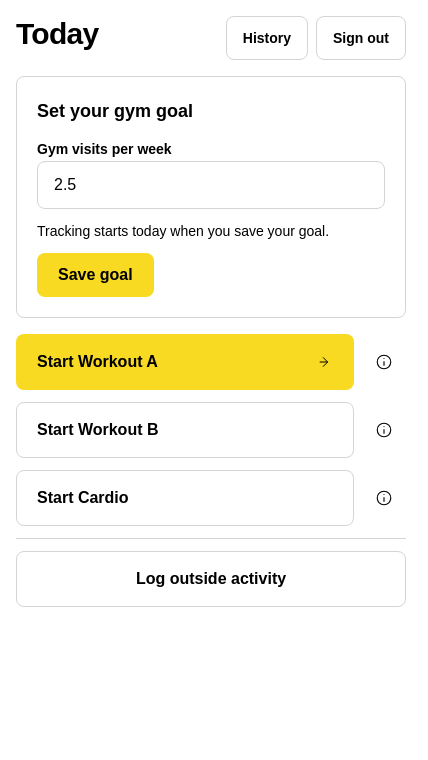
Scenario: Today workout actions › previews each workout without starting it and toggles details closed
Step 1. Click the button named "View Workout B details" → (384, 430), box top-left (362, 408), bottom-right (406, 452)
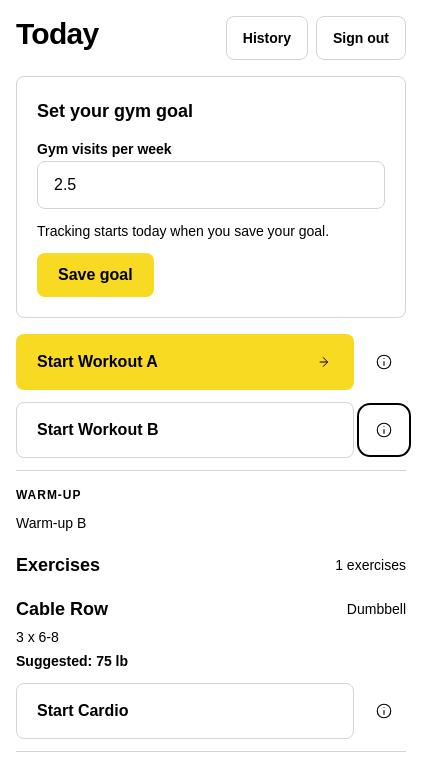
Now the text "Warm-up B" is shown, box top-left (16, 515), bottom-right (86, 531)
Now the text "Cable Row" is shown, box top-left (16, 599), bottom-right (108, 619)
Now the text "Suggested: 75 lb" is shown, box top-left (16, 651), bottom-right (128, 671)
Step 2. Click the button named "View Workout A details" → (384, 362), box top-left (362, 340), bottom-right (406, 384)
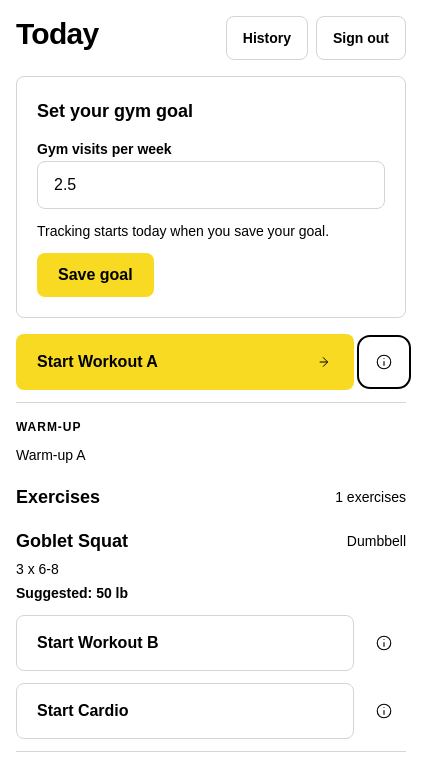
Now the text "Goblet Squat" is shown, box top-left (16, 527), bottom-right (128, 555)
Now the text "Warm-up B" is gone
Step 3. Click the button named "Hide Workout A details" → (384, 362), box top-left (362, 340), bottom-right (406, 384)
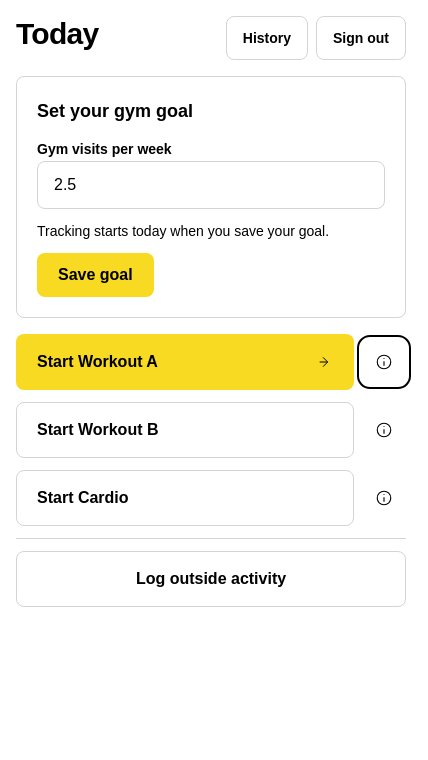
Now the link "Goblet Squat" is gone
